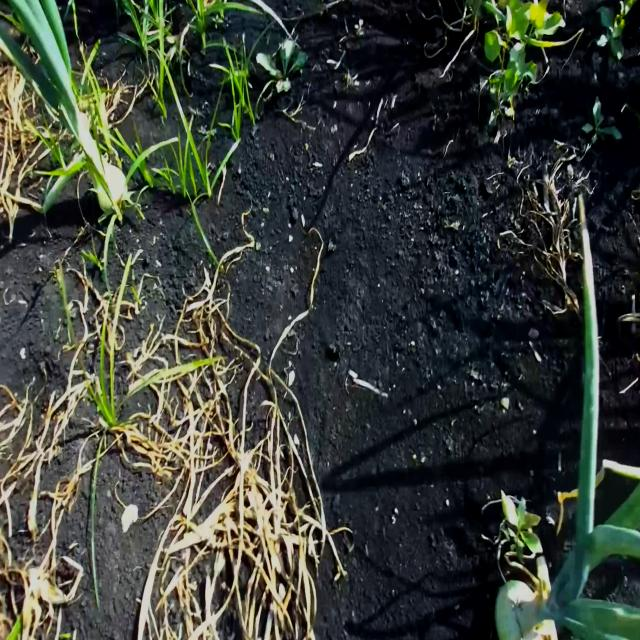onion: (495, 579, 551, 640), (96, 166, 127, 216)
